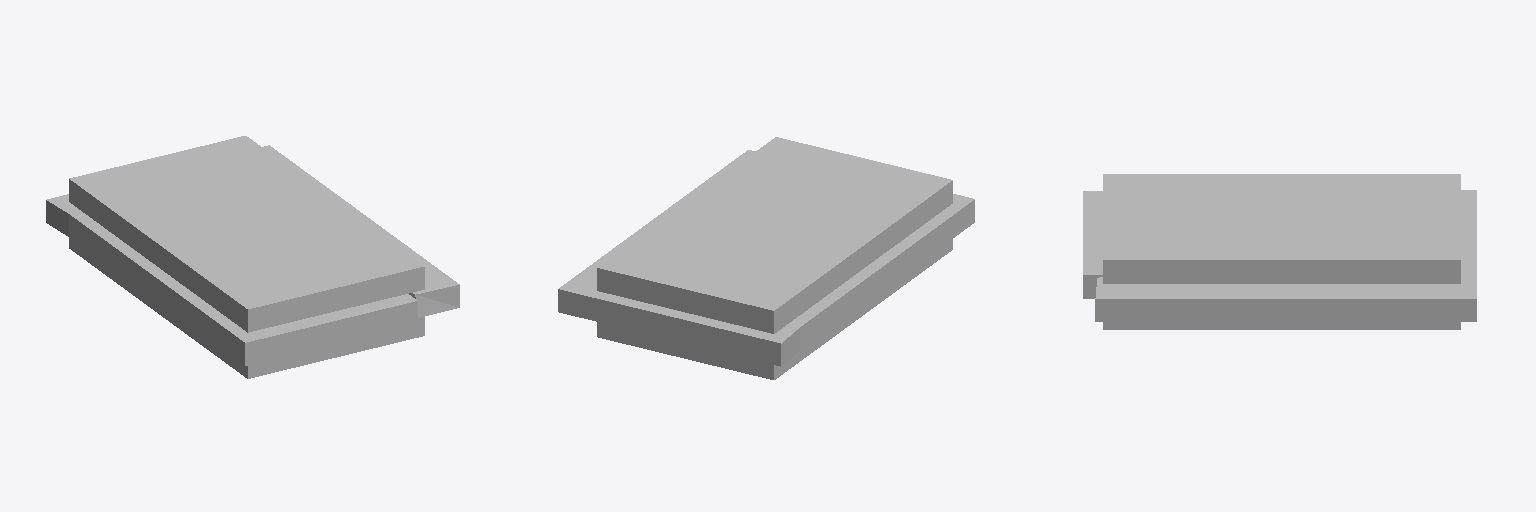
The model's file is board.obj.
3 views of the same model, side by side, from view 1: azimuth 30°, elevation 25°; view 2: azimuth 150°, elevation 25°; view 3: azimuth 270°, elevation 25° (orthographic).
Parts seen in each view (by area): view 1: Top_Cube.045, Board_Cube.049, Bottom_Cube.044; view 2: Top_Cube.045, Board_Cube.049, Bottom_Cube.044; view 3: Top_Cube.045, Board_Cube.049, Bottom_Cube.044.
Part boxes in pixels (bbox=[...]): Top_Cube.045: bbox=[69, 136, 424, 332]; Board_Cube.049: bbox=[46, 145, 459, 365]; Bottom_Cube.044: bbox=[69, 238, 424, 378]; Top_Cube.045: bbox=[597, 137, 952, 333]; Board_Cube.049: bbox=[558, 150, 974, 366]; Bottom_Cube.044: bbox=[597, 239, 952, 379]; Top_Cube.045: bbox=[1103, 174, 1460, 283]; Board_Cube.049: bbox=[1083, 190, 1476, 321]; Bottom_Cube.044: bbox=[1103, 322, 1460, 329].
Bounding box in the file's own units: 25.24 × 7.5 × 38.45.